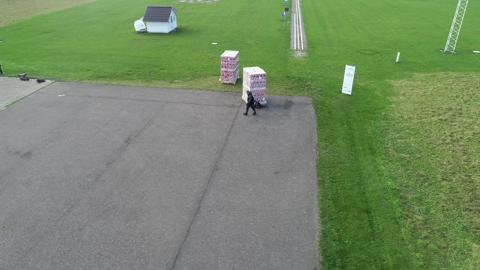RockwoolPallet: (219, 49, 245, 88)
